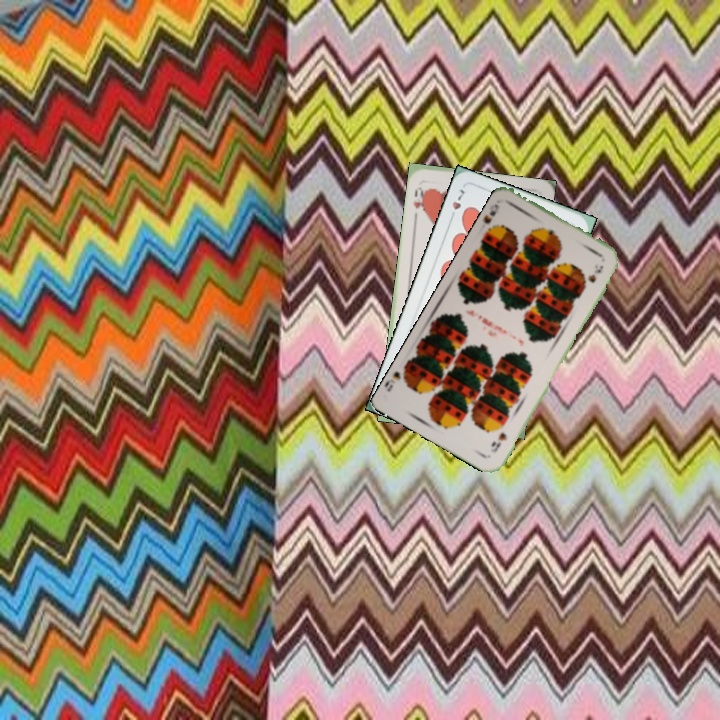H7: (446, 185, 467, 223)
HO: (410, 183, 429, 214)
S9: (481, 200, 502, 237), (486, 428, 510, 455)
